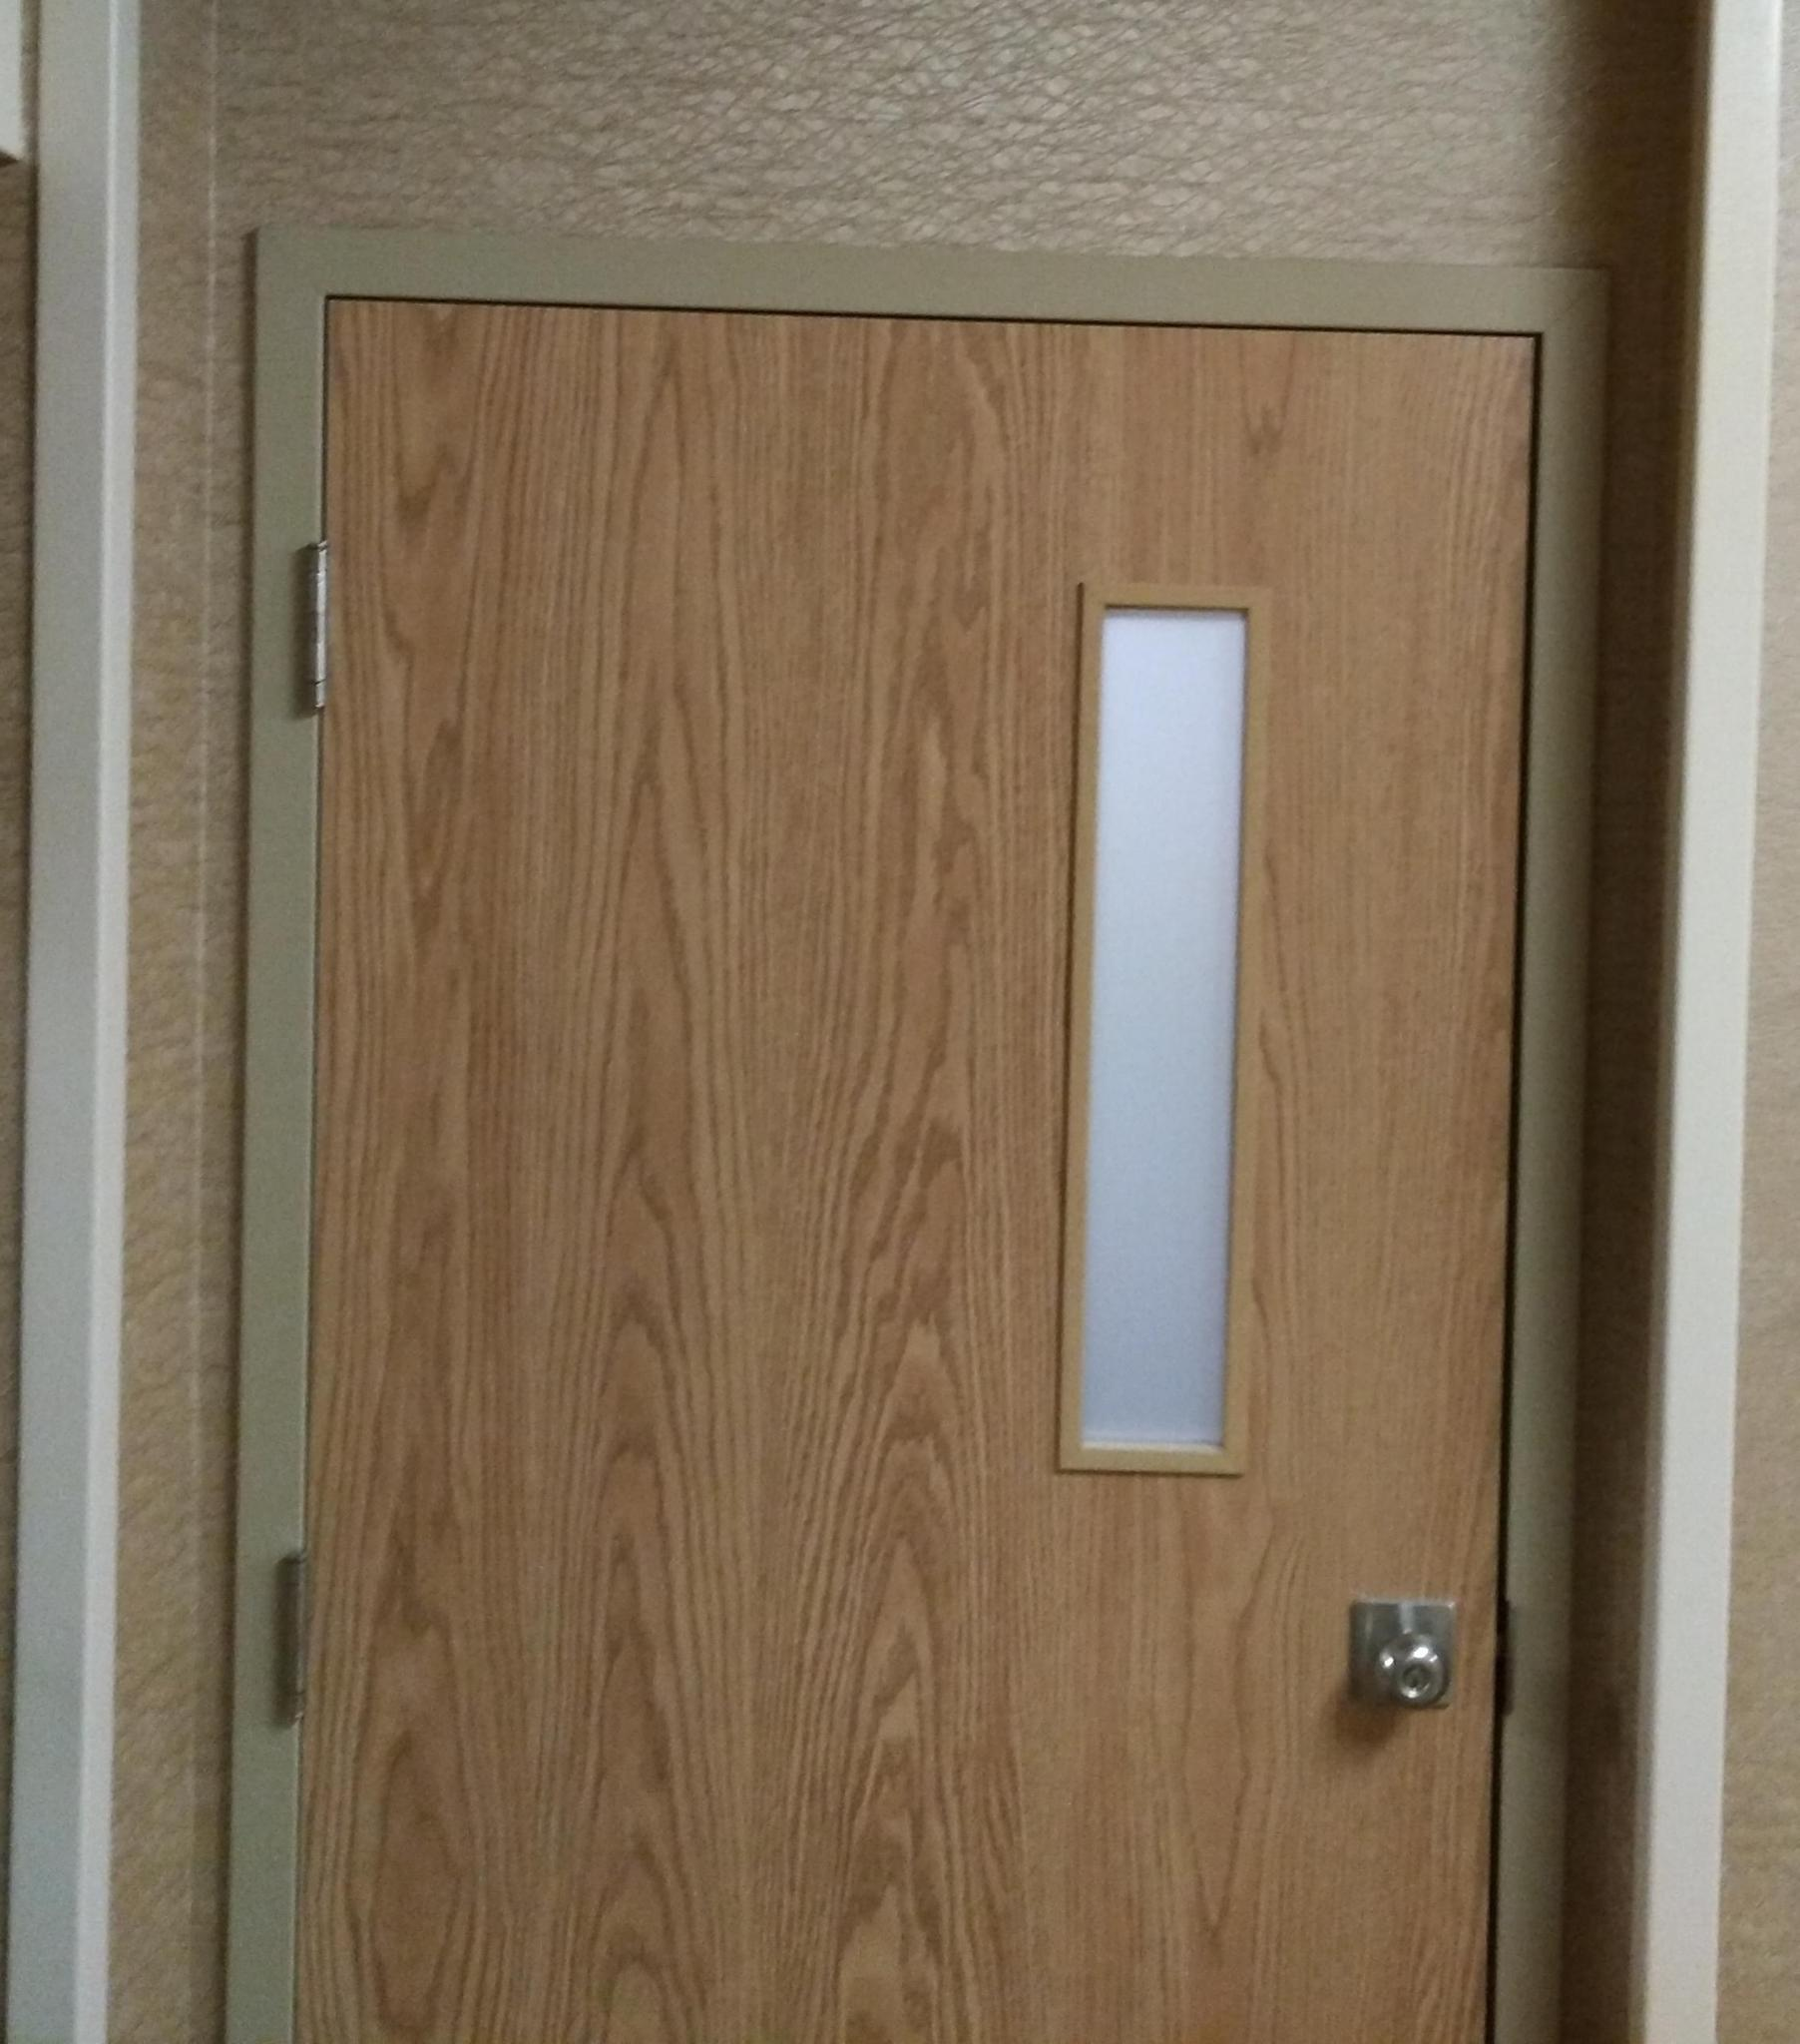door: (314, 337, 1527, 2044)
handle: (1352, 1613, 1458, 1749)
